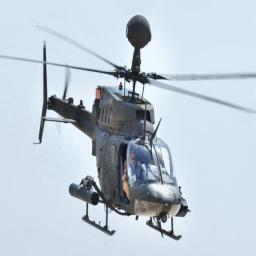helicopter: (4, 17, 256, 243)
